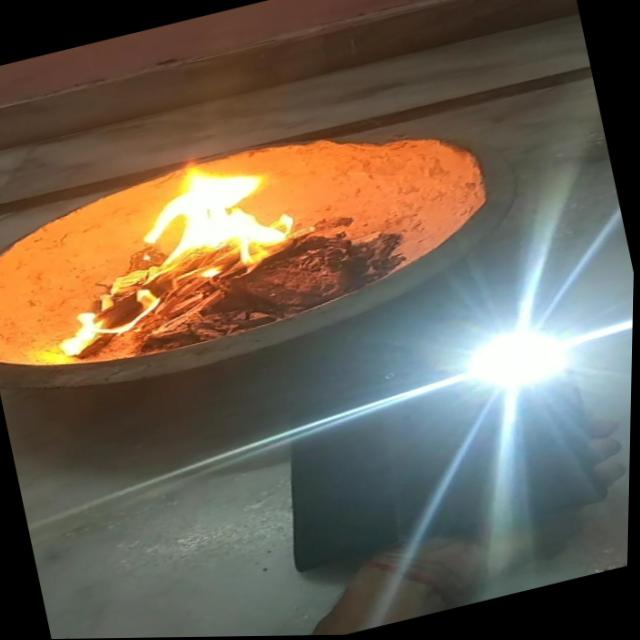fire: (128, 138, 301, 284), (50, 303, 120, 361)
